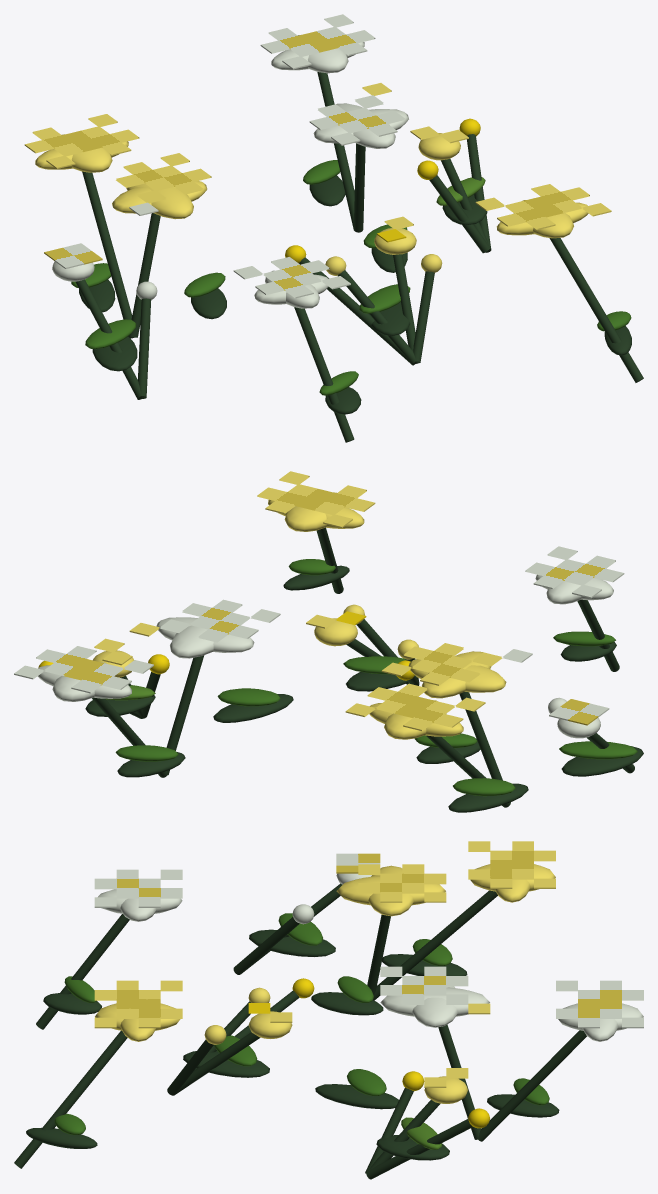
The model's file is CMU3DFlowersy4.glb.
3 renders of one model, top to bottom at view 1: azimuth 30°, elevation 25°; view 2: azimuth 150°, elevation 25°; view 3: azimuth 270°, elevation 25°, orthographic. The views are drawn at different scales.
Visible parts, largest first — view 1: bloom 1 original petal colors, bloom 2 original petal colors, bloom 15 original petal colors, bloom 6 original petal colors, bloom 3 original petal colors, bloom 14 original petal colors, bloom 2 branching stem, bloom 15 branching stem, bloom 14 branching stem, bloom 1 branching stem, bloom 6 crossing petal lobes, bloom 6 branching stem (+30 smaller); view 2: bloom 1 original petal colors, bloom 15 original petal colors, bloom 2 original petal colors, bloom 3 original petal colors, bloom 6 original petal colors, bloom 14 original petal colors, foliage 6 low leaf, foliage 4 low leaf, foliage 2 low leaf, foliage 6 raised leaf, bloom 3 crossing petal lobes, bloom 3 branching stem (+33 smaller); view 3: bloom 15 original petal colors, bloom 1 original petal colors, bloom 2 original petal colors, bloom 6 original petal colors, bloom 3 original petal colors, bloom 14 original petal colors, bloom 15 branching stem, bloom 1 branching stem, bloom 2 branching stem, foliage 4 low leaf, foliage 6 low leaf, bloom 14 branching stem (+41 smaller).
Boxes of the visible parts, box(x1,y1,x2,y2) form: bloom 1 original petal colors: box(260, 14, 375, 69); bloom 2 original petal colors: box(24, 114, 139, 168); bloom 15 original petal colors: box(475, 184, 611, 229); bloom 6 original petal colors: box(116, 153, 211, 215); bloom 3 original petal colors: box(309, 83, 404, 145); bloom 14 original petal colors: box(233, 257, 350, 298); bloom 2 branching stem: box(82, 171, 133, 338); bloom 15 branching stem: box(549, 238, 643, 382); bloom 14 branching stem: box(294, 307, 354, 442); bloom 1 branching stem: box(317, 72, 354, 229); bloom 6 crossing petal lobes: box(126, 183, 193, 219); bloom 6 branching stem: box(129, 213, 160, 337); bloom 1 original petal colors: box(14, 646, 153, 693); bloom 15 original petal colors: box(257, 471, 375, 527); bloom 2 original petal colors: box(345, 683, 485, 730); bloom 3 original petal colors: box(129, 599, 280, 642); bloom 6 original petal colors: box(381, 643, 532, 685); bloom 14 original petal colors: box(525, 546, 624, 598); foliage 6 low leaf: box(561, 746, 643, 776); foliage 4 low leaf: box(213, 694, 293, 722); foliage 2 low leaf: box(448, 783, 528, 812); foliage 6 raised leaf: box(559, 741, 637, 759); bloom 3 crossing petal lobes: box(170, 618, 213, 658); bloom 3 branching stem: box(166, 655, 204, 774); bloom 15 original petal colors: box(94, 980, 182, 1028); bloom 1 original petal colors: box(556, 980, 643, 1028); bloom 2 original petal colors: box(468, 841, 555, 888); bloom 6 original petal colors: box(336, 855, 446, 902); bloom 3 original petal colors: box(380, 966, 490, 1014); bloom 14 original petal colors: box(94, 869, 182, 907); bloom 15 branching stem: box(14, 1030, 127, 1168); bloom 1 branching stem: box(478, 1030, 586, 1141); bloom 2 branching stem: box(373, 890, 497, 1000); foliage 4 low leaf: box(315, 1084, 398, 1109); foliage 6 low leaf: box(249, 929, 335, 956); bloom 14 branching stem: box(36, 914, 129, 1029).
Size of the model in its own units: 0.8166 by 0.2311 by 0.8961.
Materials: 15 (9 with a texture image).
